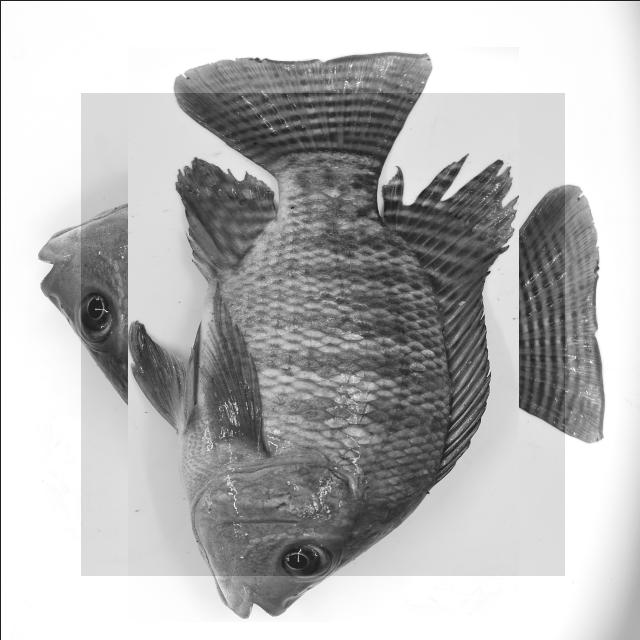Healthy Fish: (80, 92, 564, 575)
